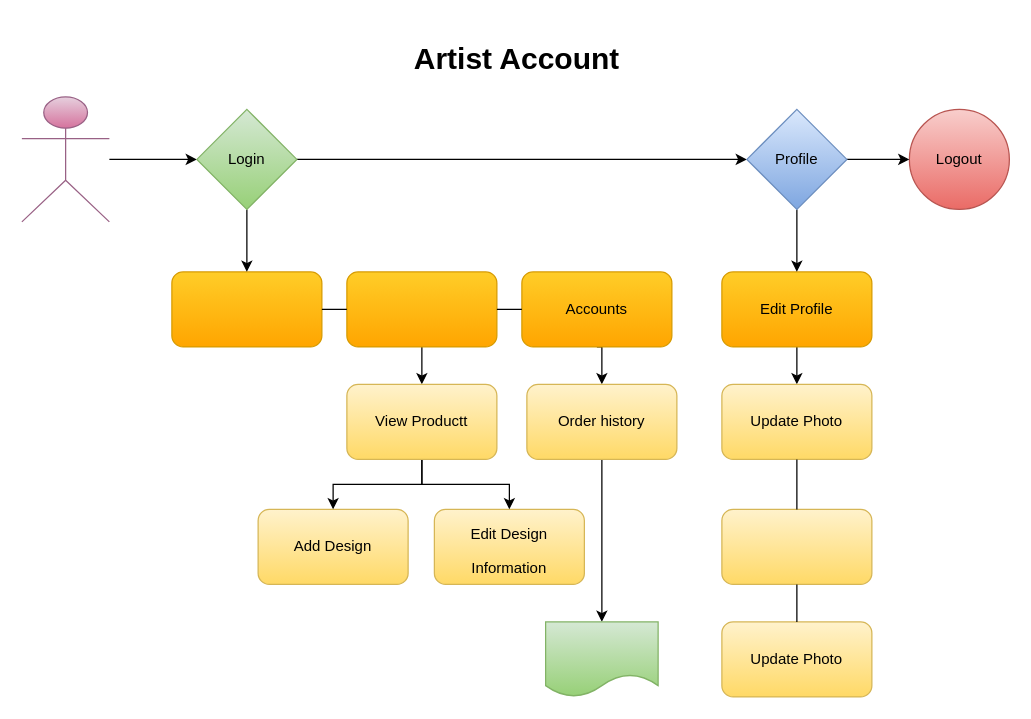
This 1031x719 diagram has some shape labels left out. The box of each missing label's shape, as (x1, y1, x2, y2) in pixels:
Artist: (21, 96, 109, 222)
Dashboard: (171, 271, 322, 347)
Filter, PDF, Excel, Print: (544, 621, 658, 697)
Product Management: (346, 271, 497, 347)
Update Information: (721, 508, 872, 584)
